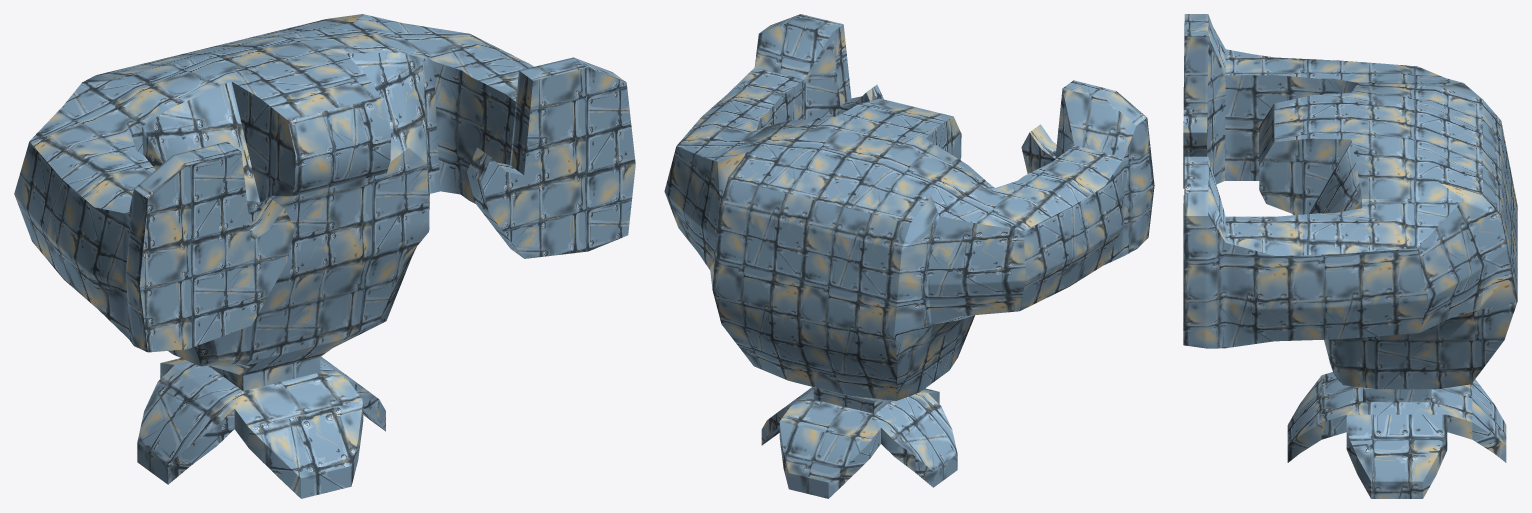
Rendered from StrongRob.fbx.
The picture shows the model from 3 angles, left to right: view 1: azimuth 30°, elevation 25°; view 2: azimuth 150°, elevation 25°; view 3: azimuth 270°, elevation 25°; orthographic projection. The views are drawn at different scales.
Visible parts, largest first — view 1: pCube1; view 2: pCube1; view 3: pCube1.
Part boxes in pixels (<box>): pCube1: <box>14,14,635,498</box>; pCube1: <box>664,14,1154,498</box>; pCube1: <box>1183,14,1517,498</box>.
Size of the model in its own units: 12.99 by 10.4 by 8.82.
1 material, 1 textured.
